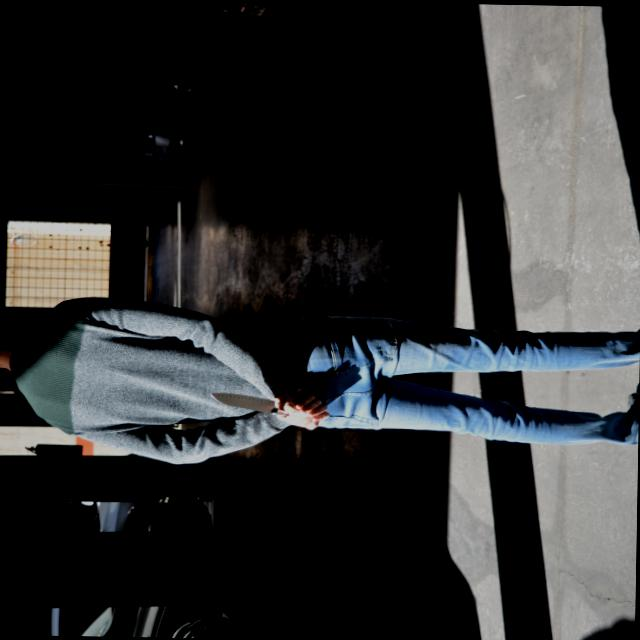knife: (204, 388, 298, 418)
